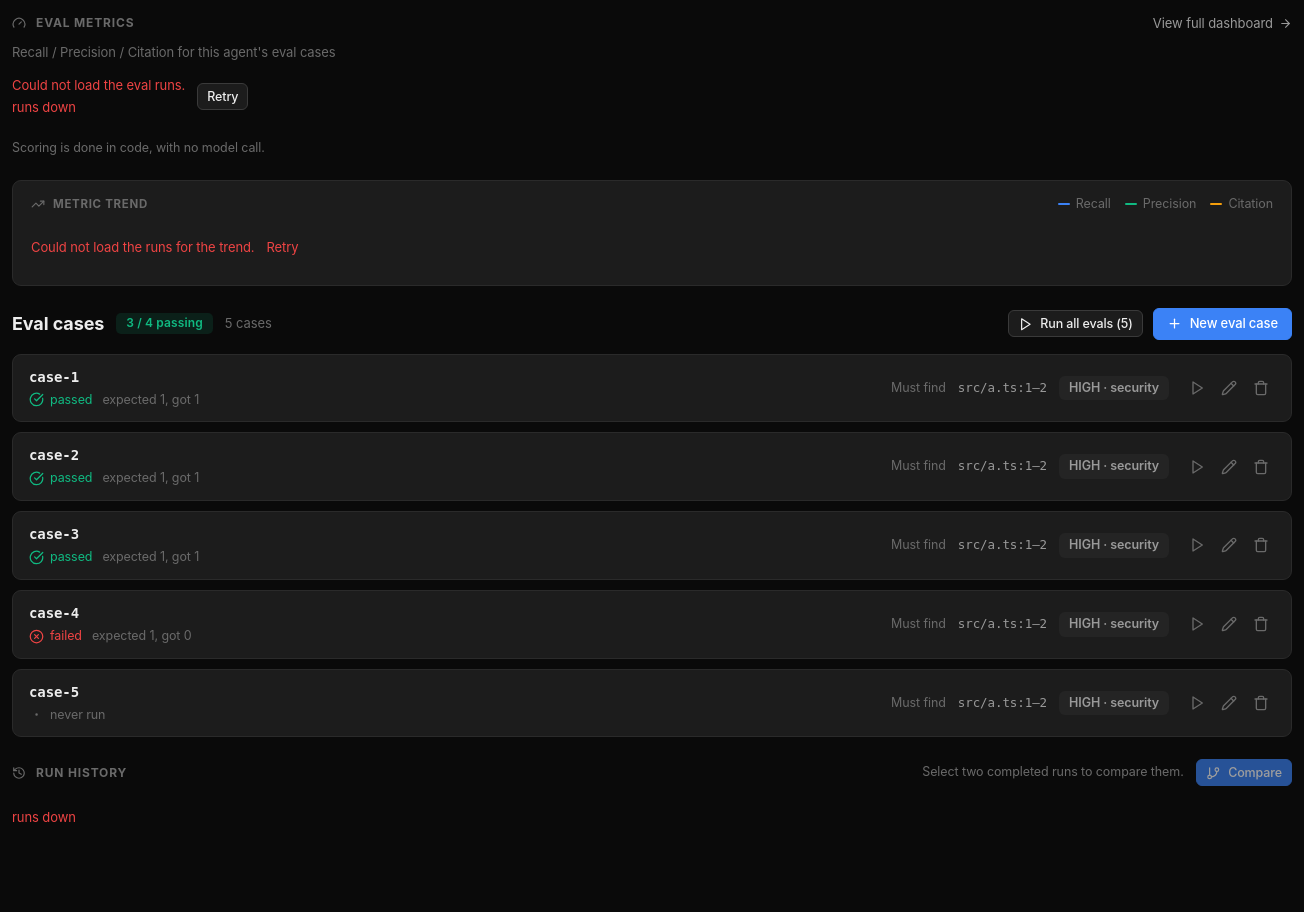
Test case: EvalsTab — failure (AC-27) › shows the run failure in place of the tiles and refetches the runs on retry
The width and height of the screenshot is (1304, 912).
Expected: the message "Could not load the eval runs. runs down" is shown, [12,76,185,117]
Expected: the text "5 cases" is shown, [225,314,272,334]
Step 1. Click the button "Retry" next to "Could not load the eval runs." → (223, 96), box [197,83,248,110]
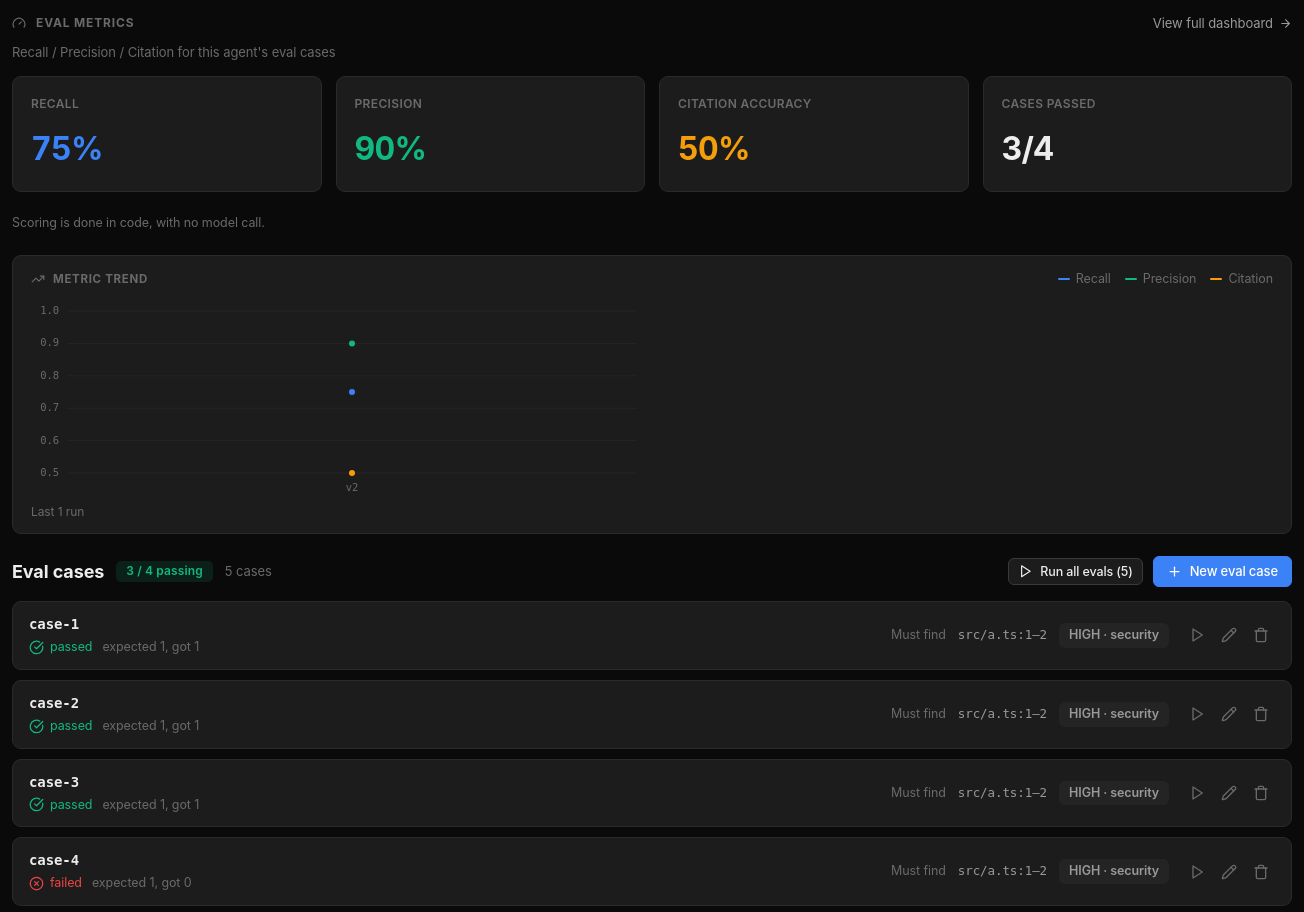
Result: the text "75%" is shown at [31,125,103,173]
